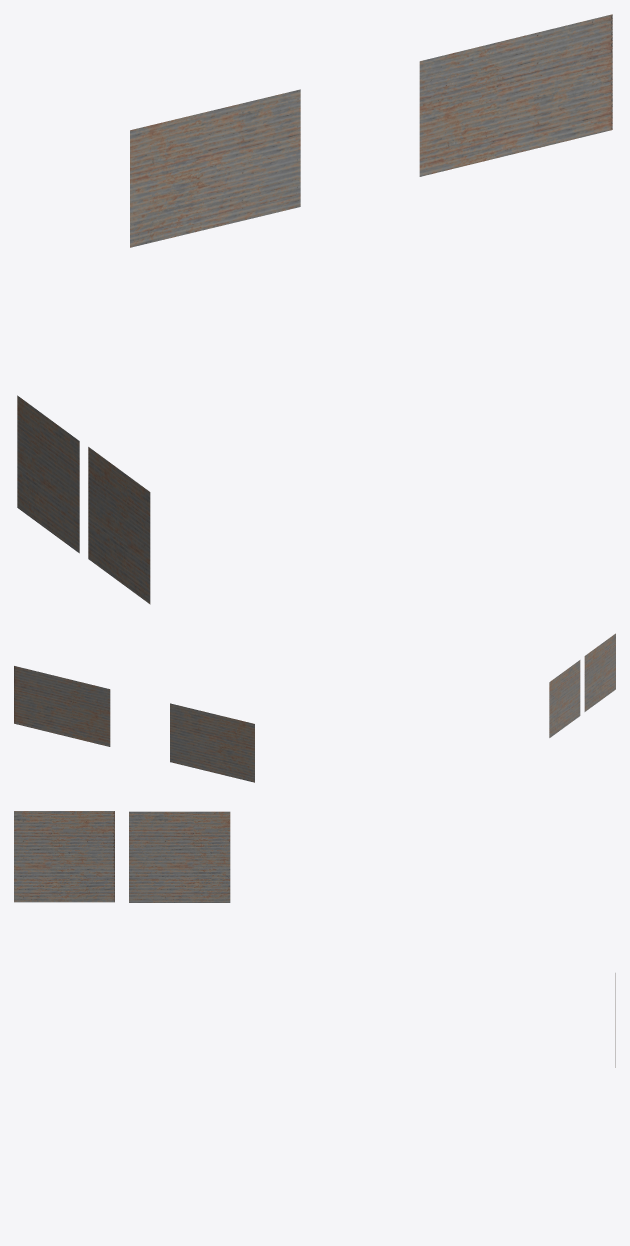
3 views of the same model, one above another, from view 1: azimuth 30°, elevation 25°; view 2: azimuth 150°, elevation 25°; view 3: azimuth 270°, elevation 25° (orthographic). The views are drawn at different scales.
Parts seen in each view (by area): view 1: SM_HK_03_07; view 2: SM_HK_03_07; view 3: SM_HK_03_07.
Part boxes in pixels (box(x1,y1,x2,y2)): SM_HK_03_07: box(17, 14, 612, 604); SM_HK_03_07: box(14, 633, 615, 782); SM_HK_03_07: box(14, 811, 615, 1067).
Bounding box in the file's own units: 3126 × 423 × 2413.
